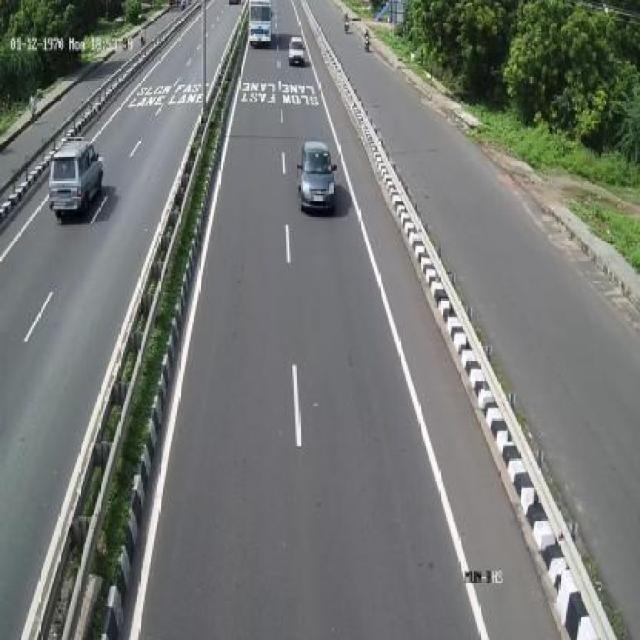car: (297, 138, 340, 217), (283, 32, 319, 80)
